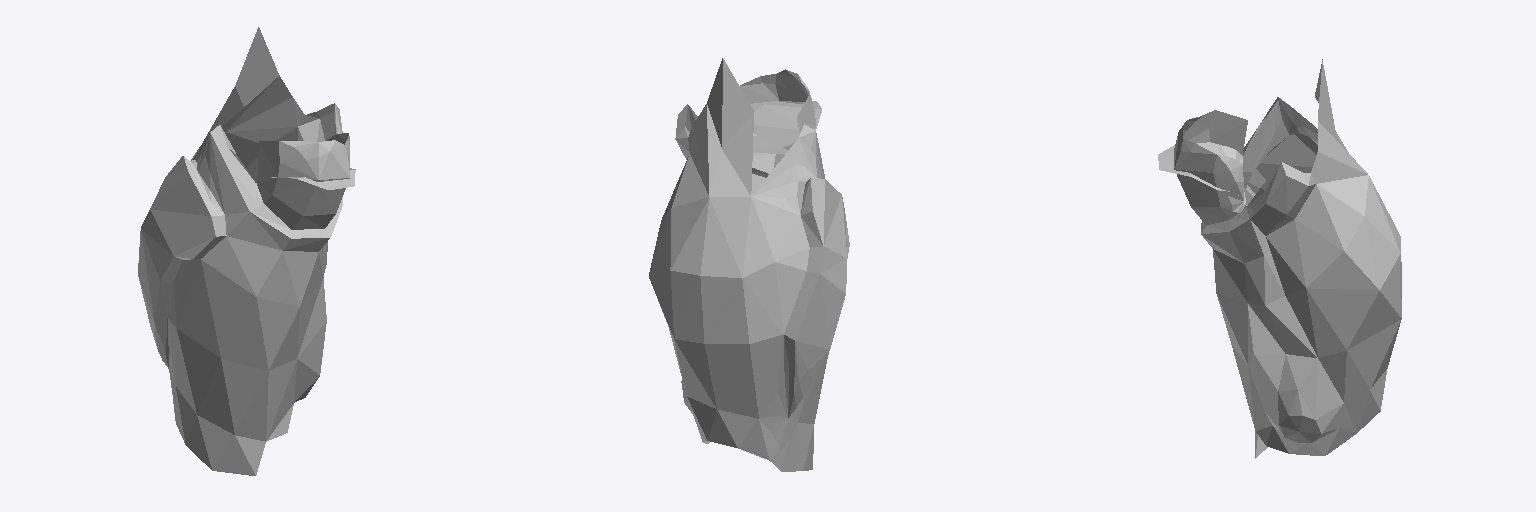
File: nn_lleg.obj
3 views of the same model, side by side, from view 1: azimuth 30°, elevation 25°; view 2: azimuth 150°, elevation 25°; view 3: azimuth 270°, elevation 25° (orthographic).
Visible parts, largest first — view 1: S-LoW.slow_nanosuit.smd.mesh_1.006; view 2: S-LoW.slow_nanosuit.smd.mesh_1.006; view 3: S-LoW.slow_nanosuit.smd.mesh_1.006.
Part boxes in pixels (bbox=[...]): S-LoW.slow_nanosuit.smd.mesh_1.006: bbox=[138, 27, 355, 475]; S-LoW.slow_nanosuit.smd.mesh_1.006: bbox=[649, 58, 849, 471]; S-LoW.slow_nanosuit.smd.mesh_1.006: bbox=[1158, 59, 1401, 458].
Size of the model in its own units: 6.79 by 15.58 by 8.27.